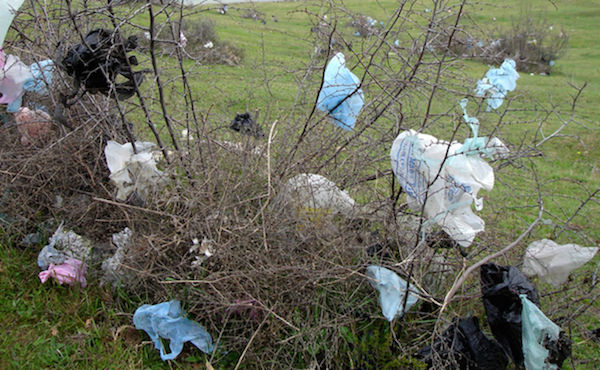plastic_bagwdw: (356, 90, 507, 260), (52, 26, 207, 134), (467, 221, 578, 370), (270, 13, 373, 170), (90, 137, 220, 248), (501, 147, 583, 300), (446, 21, 546, 122), (336, 224, 425, 322), (122, 295, 234, 370), (453, 228, 505, 368), (31, 231, 113, 319), (9, 99, 85, 189), (506, 282, 568, 370), (220, 82, 269, 170), (2, 43, 48, 129), (22, 35, 72, 110)
